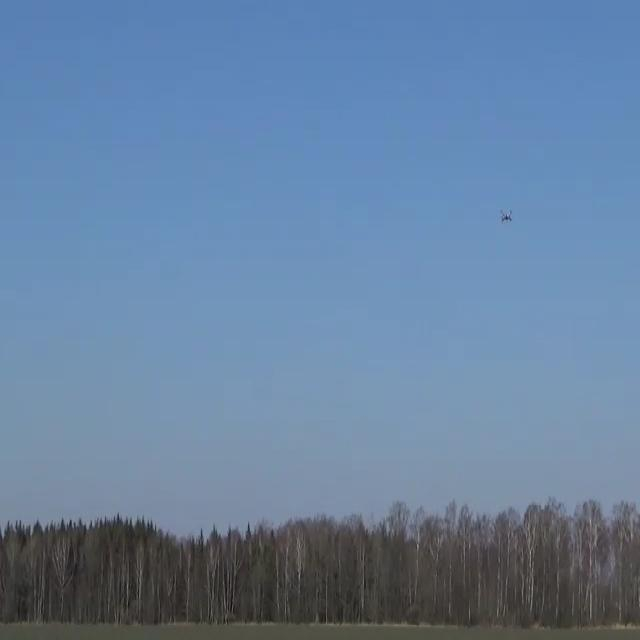Drone: (489, 202, 525, 231)
